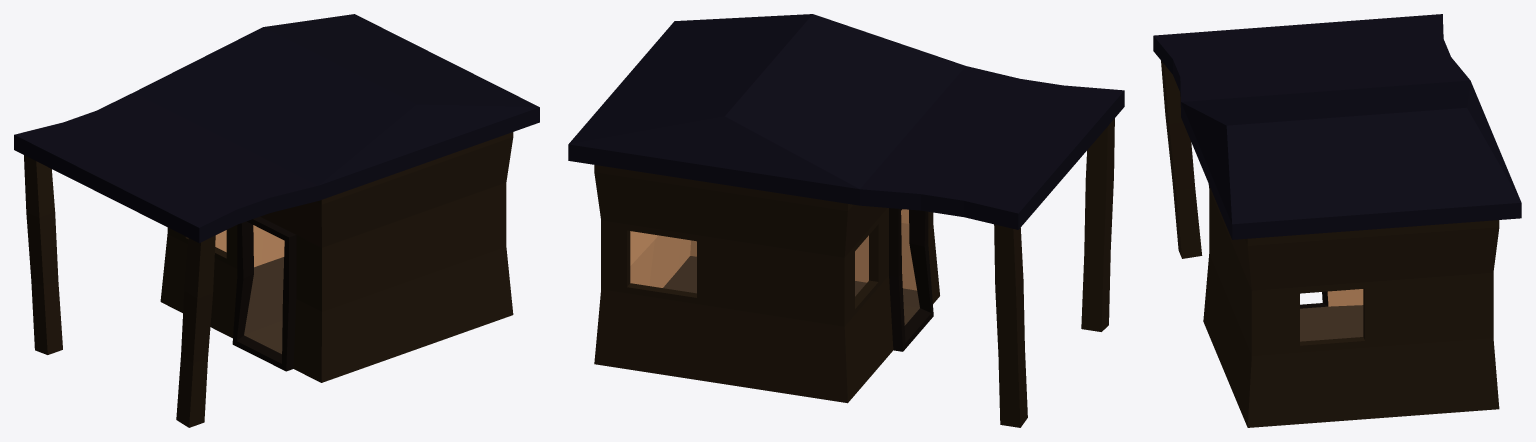
Rendered from Maison_02.FBX.
3 views of the same model, side by side, from view 1: azimuth 30°, elevation 25°; view 2: azimuth 150°, elevation 25°; view 3: azimuth 270°, elevation 25° (orthographic). The views are drawn at different scales.
Parts seen in each view (by area): view 1: Maison001; view 2: Maison001; view 3: Maison001.
Part boxes in pixels (<box>): Maison001: <box>14,14,539,427</box>; Maison001: <box>568,14,1124,427</box>; Maison001: <box>1153,14,1521,427</box>.
Size of the model in its own units: 7.79 by 4.32 by 5.76.
